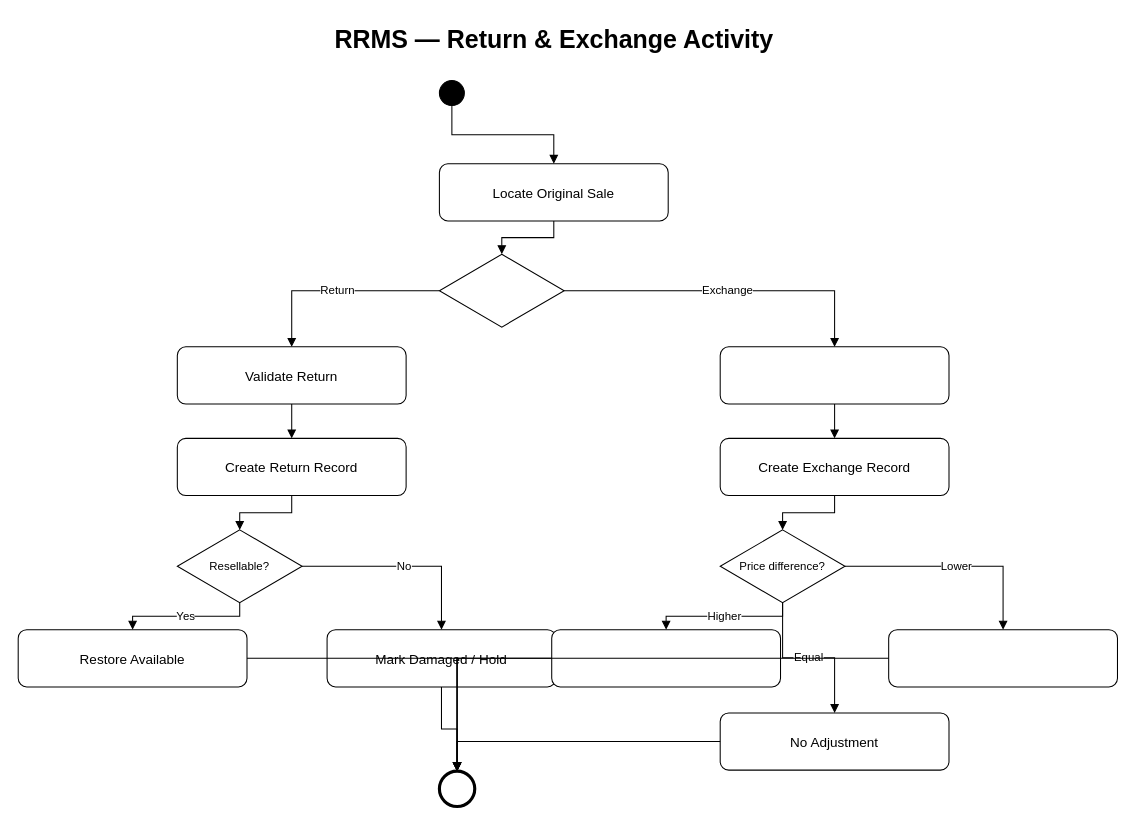
Some shapes in this 1136 by 826 pixel diagram are drawn without their labels. Here are the shapes that lost their labels. From the top down, the centre of each, then its label:
the point at 501,290: Return or Exchange?
the point at 834,375: Select Replacement
the point at 666,658: Collect Difference
the point at 1002,658: Refund or Credit
